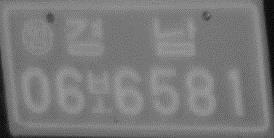0: (20, 65, 52, 116)
1: (225, 67, 251, 119)
5: (148, 66, 180, 119)
6: (113, 65, 146, 117), (56, 67, 86, 116)
8: (184, 68, 217, 118)
경남_D: (64, 14, 200, 60)
보: (85, 68, 115, 117)
영: (20, 18, 57, 57)
